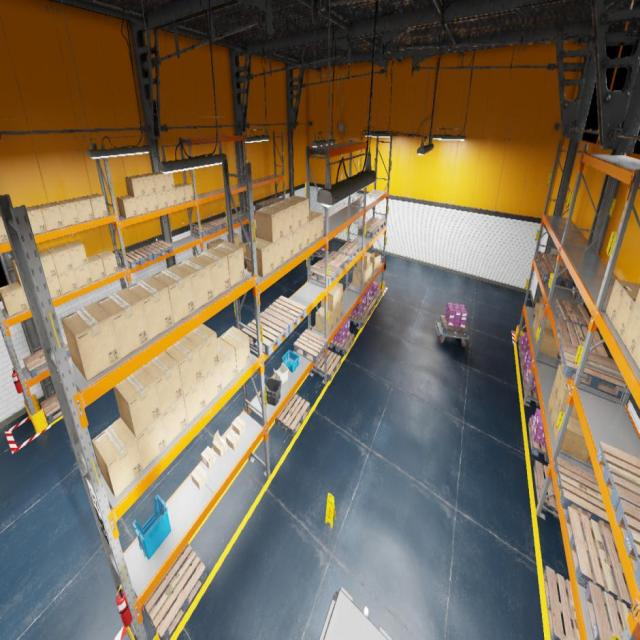box: (61, 302, 120, 381), (92, 417, 143, 498), (96, 288, 149, 359), (114, 368, 161, 437), (126, 276, 174, 341), (142, 351, 183, 415), (152, 266, 195, 324), (165, 336, 203, 394), (174, 256, 214, 310), (552, 412, 590, 462), (185, 323, 219, 378), (193, 248, 230, 298), (136, 415, 167, 470), (606, 279, 640, 325), (219, 326, 251, 374), (211, 242, 245, 287), (161, 396, 188, 446), (614, 290, 638, 340), (245, 238, 274, 276), (217, 337, 237, 389), (183, 379, 206, 424), (256, 206, 284, 242), (0, 281, 28, 317), (556, 376, 579, 419), (623, 304, 640, 356), (203, 363, 223, 405), (267, 203, 292, 236), (276, 199, 301, 231), (37, 202, 64, 231), (47, 245, 73, 274), (535, 326, 558, 358), (286, 195, 309, 226), (54, 200, 80, 227), (63, 241, 88, 269), (69, 196, 94, 222), (26, 206, 47, 234), (85, 194, 108, 219), (96, 250, 118, 276), (38, 250, 57, 278), (57, 269, 78, 294), (87, 255, 106, 282), (116, 196, 138, 218), (316, 306, 333, 334), (73, 264, 92, 288), (191, 464, 208, 490), (125, 176, 146, 197), (212, 429, 228, 456), (537, 302, 552, 330), (309, 210, 323, 240), (534, 318, 551, 342), (46, 275, 63, 299), (322, 287, 338, 311), (147, 172, 166, 192), (137, 174, 156, 194), (321, 306, 338, 328), (201, 446, 216, 469), (273, 238, 284, 269), (550, 398, 560, 432), (11, 260, 23, 288), (554, 364, 564, 397), (157, 172, 175, 190), (226, 429, 240, 451), (177, 183, 193, 202), (283, 232, 293, 262), (232, 416, 246, 436), (532, 296, 544, 318), (548, 386, 556, 419), (135, 195, 148, 215), (632, 337, 640, 369), (353, 268, 366, 287), (0, 216, 9, 243), (146, 192, 158, 212), (357, 252, 370, 270), (309, 216, 317, 244), (293, 227, 301, 255), (333, 282, 342, 306), (301, 223, 309, 250), (156, 191, 167, 210), (371, 252, 382, 270), (356, 267, 369, 282), (175, 185, 185, 204), (166, 189, 177, 206), (227, 233, 240, 246), (22, 288, 29, 308), (532, 312, 538, 335), (634, 288, 640, 310), (207, 241, 219, 249), (338, 300, 342, 322), (240, 242, 246, 256), (214, 238, 225, 244), (369, 262, 372, 279), (0, 213, 1, 216)
forklift: (319, 586, 393, 640)
pallets: (565, 506, 634, 610), (143, 543, 206, 639), (554, 457, 612, 532), (558, 341, 626, 399), (596, 442, 640, 511), (585, 582, 631, 640), (544, 566, 580, 639), (615, 499, 639, 590), (555, 318, 608, 357), (242, 312, 288, 355), (23, 342, 71, 378), (265, 295, 306, 333), (275, 393, 310, 437), (533, 461, 559, 520), (40, 392, 78, 424), (294, 329, 328, 363), (554, 299, 590, 329), (528, 418, 550, 462), (539, 261, 574, 288), (314, 349, 341, 381), (311, 261, 341, 285), (120, 248, 153, 269), (321, 250, 350, 272), (522, 373, 540, 407), (142, 241, 173, 260), (440, 316, 468, 336), (330, 333, 355, 355), (535, 251, 566, 268), (338, 242, 360, 261), (348, 309, 370, 328), (193, 223, 217, 237), (358, 223, 380, 238), (366, 217, 386, 231), (207, 217, 227, 231), (225, 212, 246, 224), (366, 298, 376, 315), (518, 338, 526, 359), (372, 288, 382, 304), (254, 201, 274, 209), (520, 354, 525, 378), (266, 197, 283, 203), (312, 250, 325, 255)
